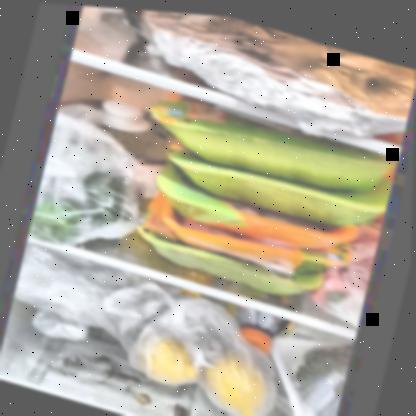chicken: (136, 90, 361, 301)
lemon: (203, 343, 284, 415), (134, 325, 206, 389)
